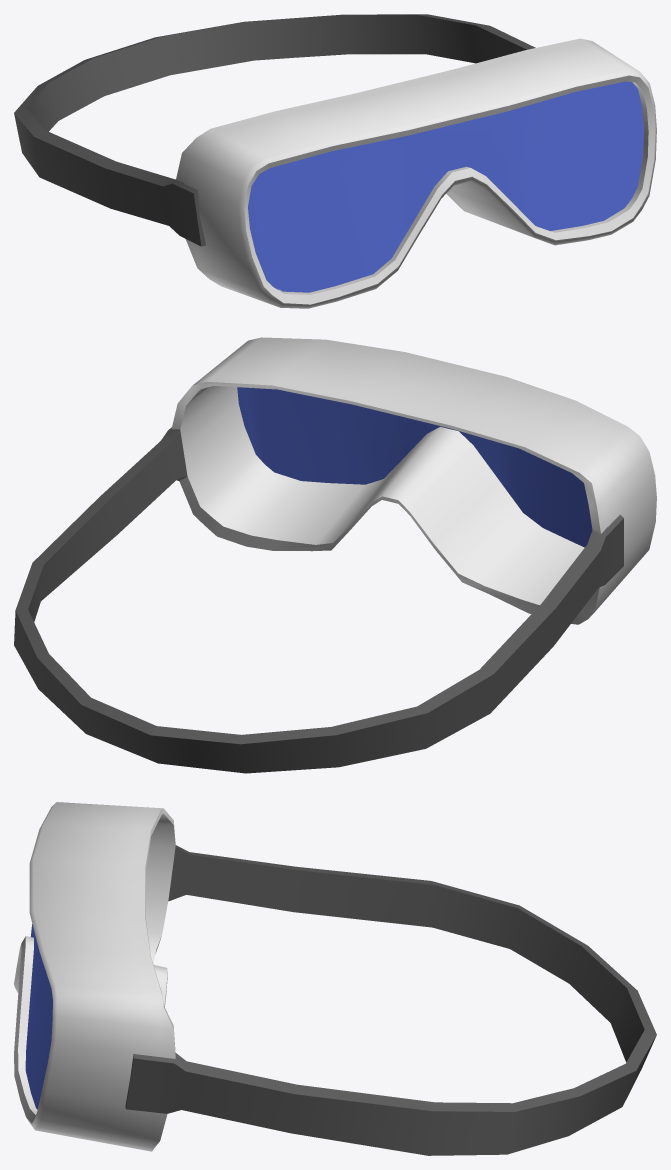
Rendered from Objects_Goggles.fbx.
3 views of the same model, one above another, from view 1: azimuth 30°, elevation 25°; view 2: azimuth 150°, elevation 25°; view 3: azimuth 270°, elevation 25° (orthographic). The views are drawn at different scales.
Parts seen in each view (by area): view 1: Objects_Goggles; view 2: Objects_Goggles; view 3: Objects_Goggles.
Part boxes in pixels (<box>): Objects_Goggles: <box>14,14,656,308</box>; Objects_Goggles: <box>14,337,656,773</box>; Objects_Goggles: <box>14,802,656,1155</box>.
Size of the model in its own units: 14.53 by 5.4 by 16.99.
